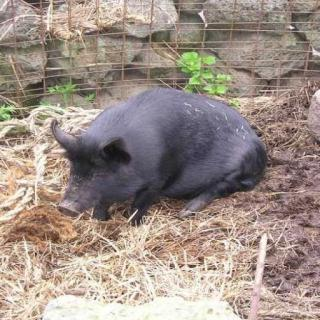Pig: (32, 78, 272, 227)
